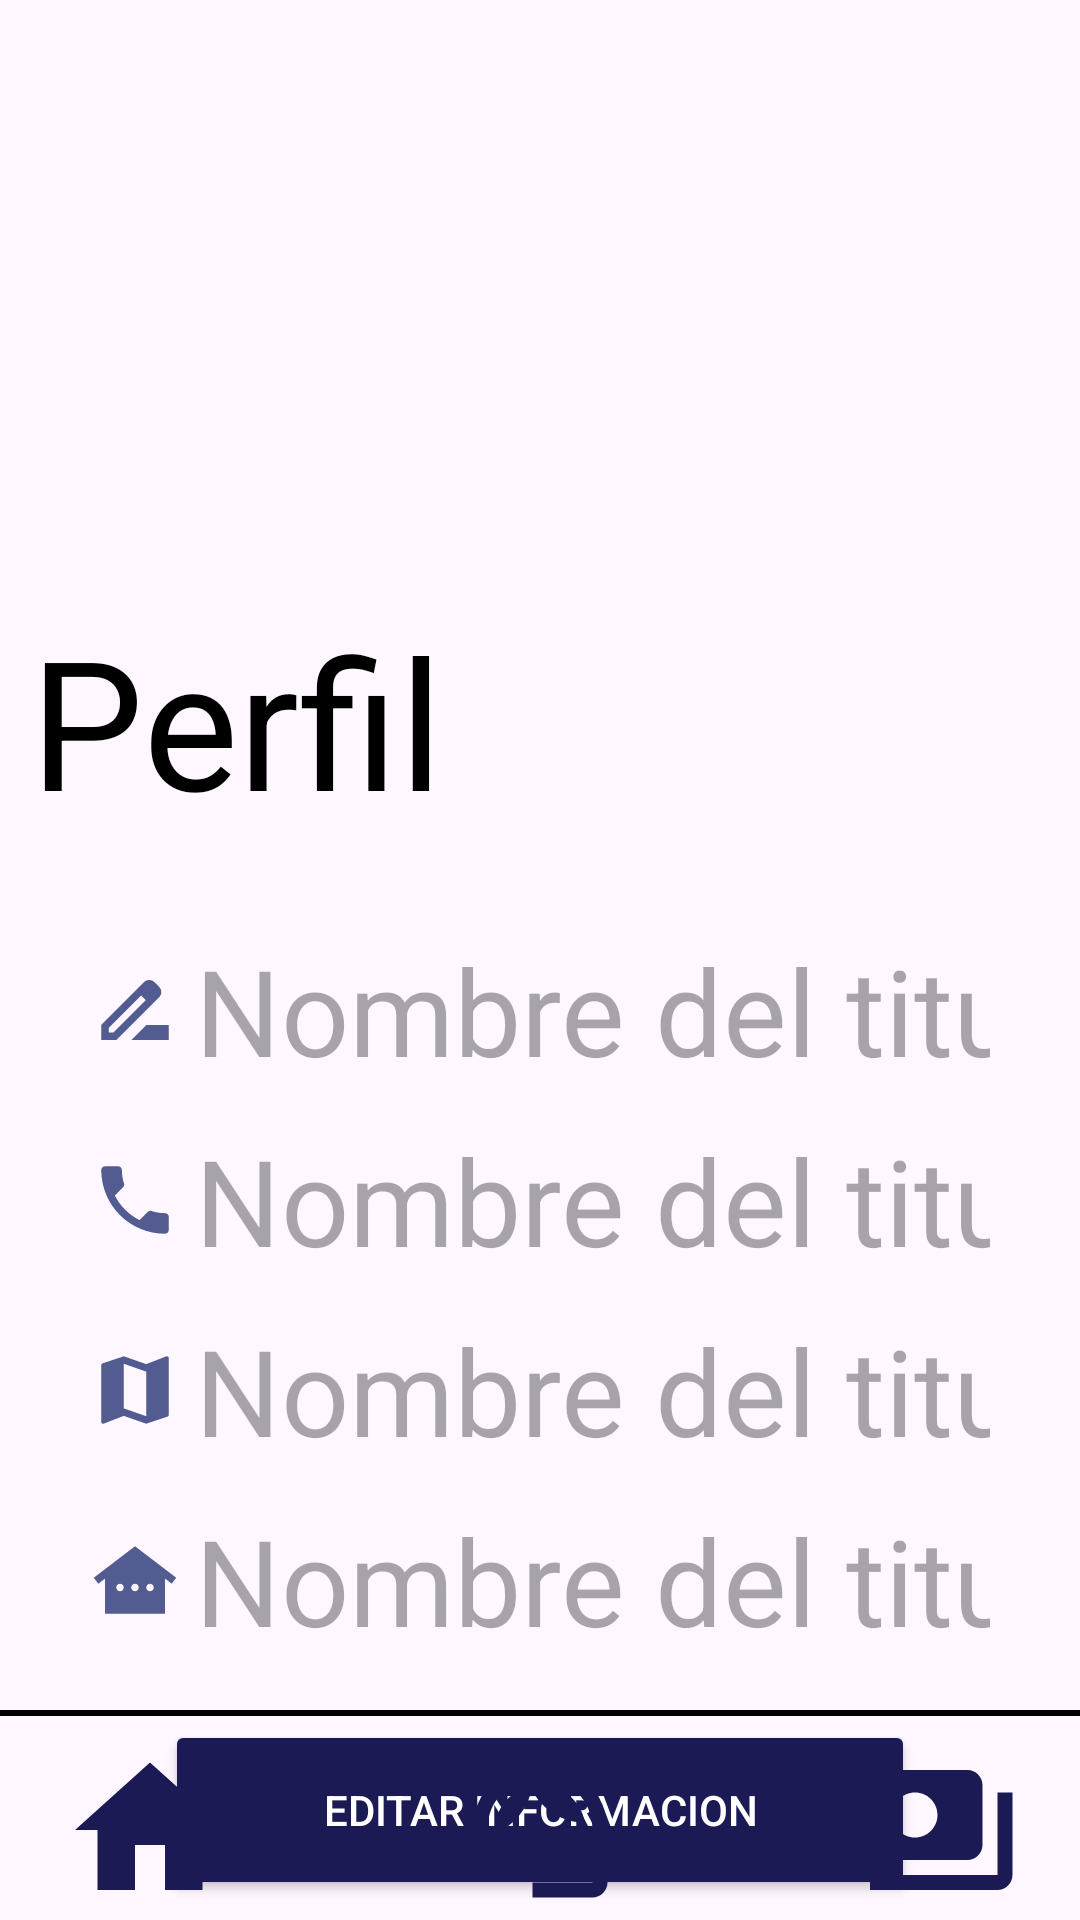

Screen size 1080w x 1920h. Icon name, then its center in pixels as point (x, y):
direction: point (135, 1390)
phone: point (135, 1200)
